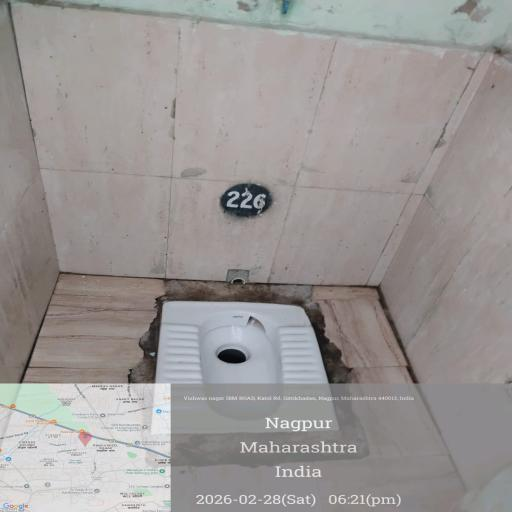clean_floor: (0, 20, 483, 267)
damage: (76, 264, 402, 490)
